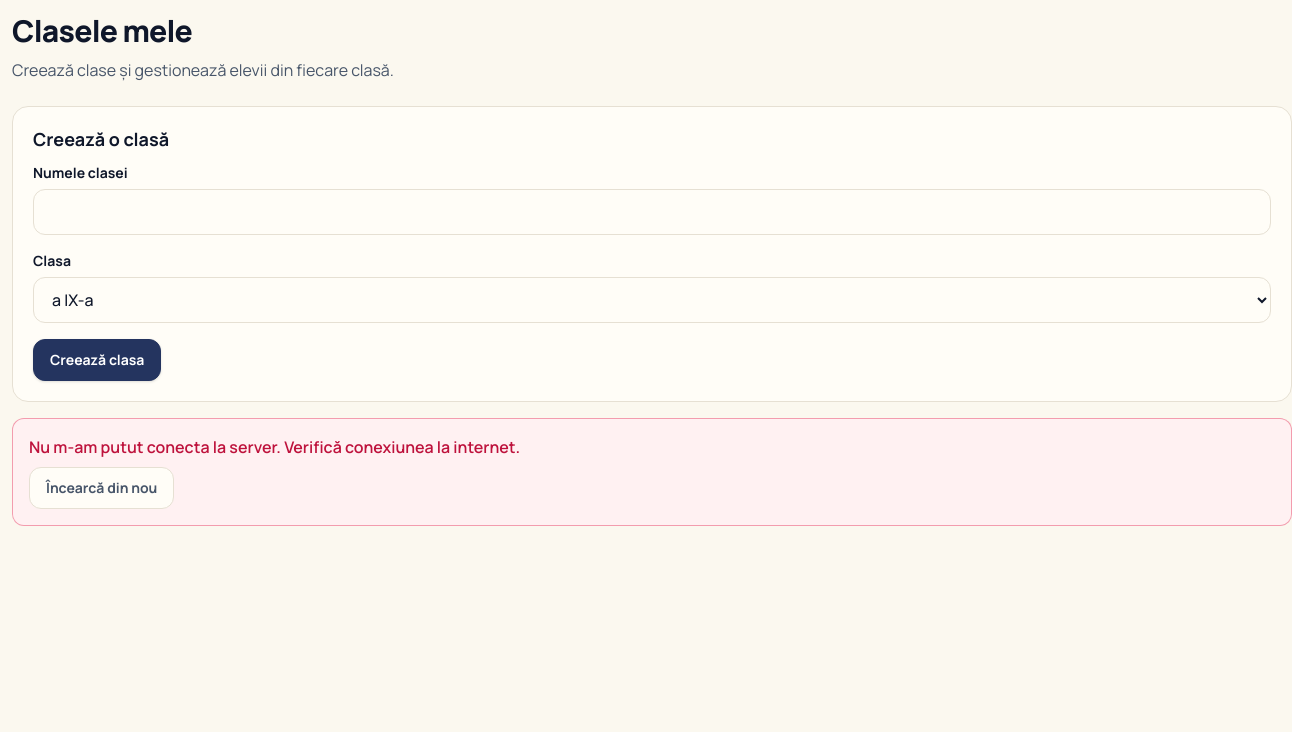
Test: teacher class list › shows a Romanian error state and retries on request
The width and height of the screenshot is (1292, 732).
Expected: the message shows "Nu m-am putut conecta la server", left=29, top=436, right=520, bottom=458
What coordinates should you click on to do the following:
click the button "Încearcă din nou"
I would click on:
 (102, 488)
Its box is left=29, top=467, right=174, bottom=509.
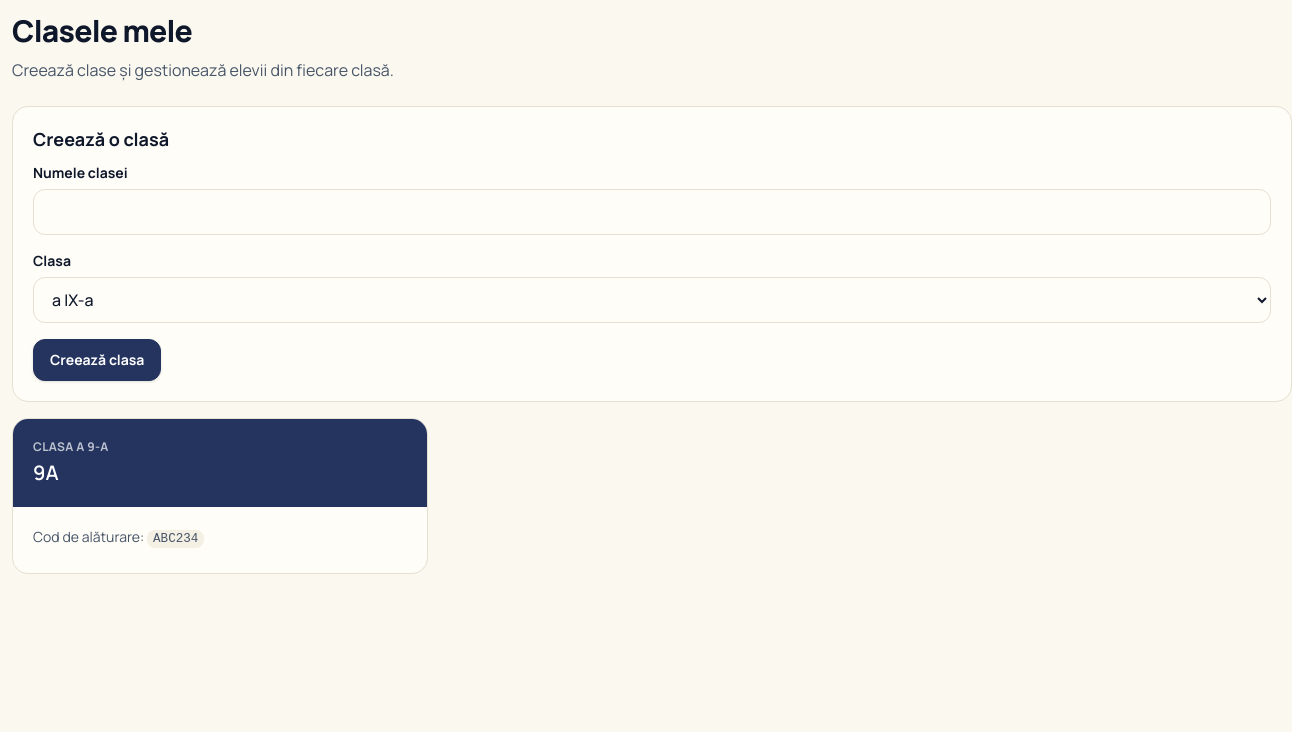
Expected: the link "9A" is shown, left=33, top=459, right=59, bottom=486
Expected: the message is gone
